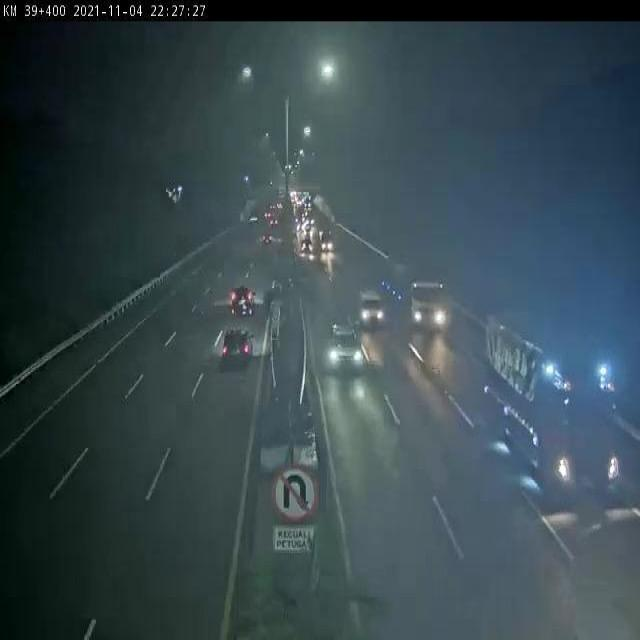car: (326, 324, 364, 368), (221, 329, 252, 364), (358, 288, 384, 328), (229, 286, 257, 318)
truck-l-: (484, 316, 620, 497)
truck-xl-: (382, 256, 447, 329)
